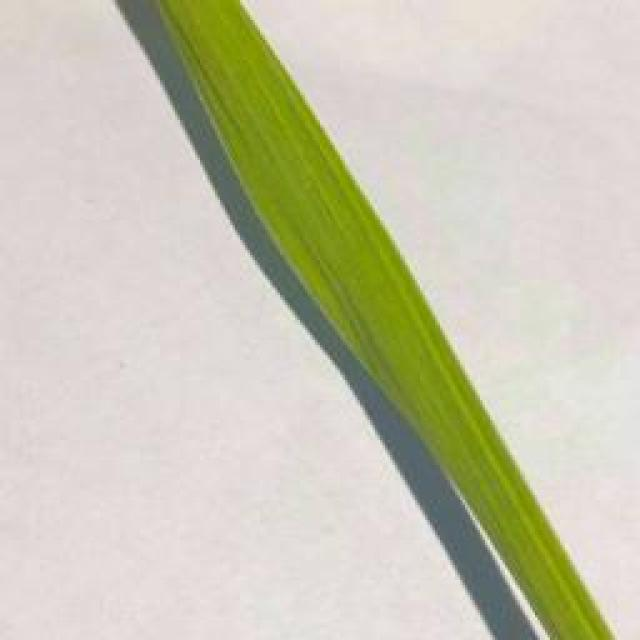Healthy-Plant: (156, 0, 619, 640)
